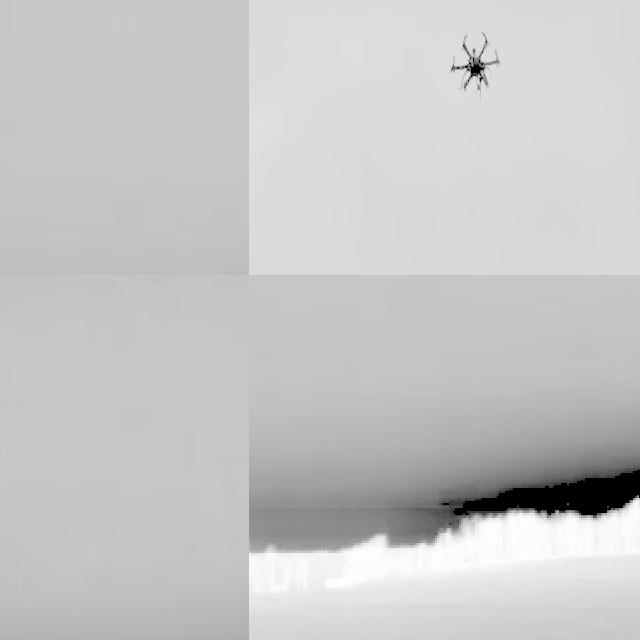drone: (446, 20, 508, 98)
